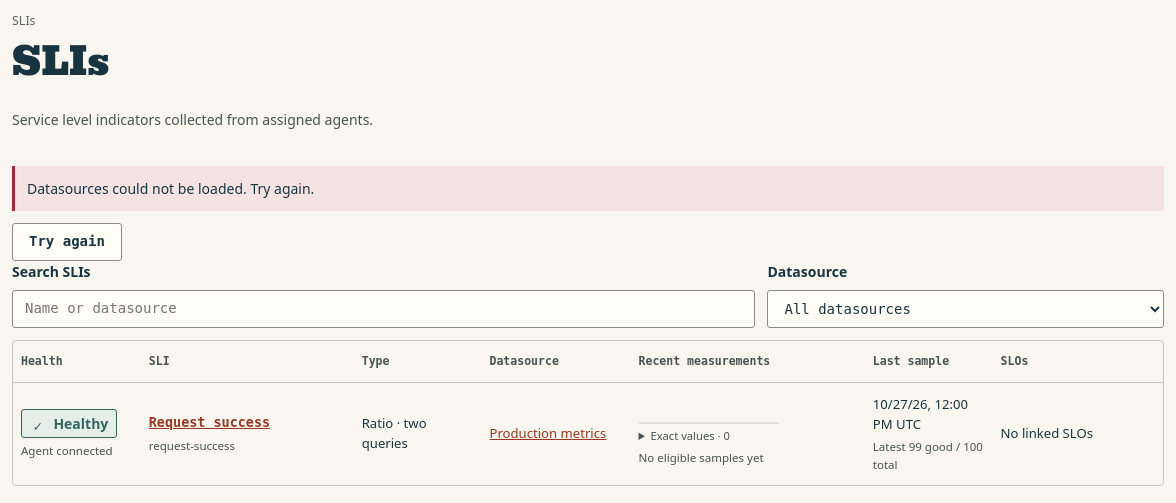
SLI page › recovers a failed datasource read with existing SLIs
Expected: the message shows "Datasources could not be loaded", [27,179,314,198]
Click the button "Try again" at (67, 242), box [12,223,122,261]
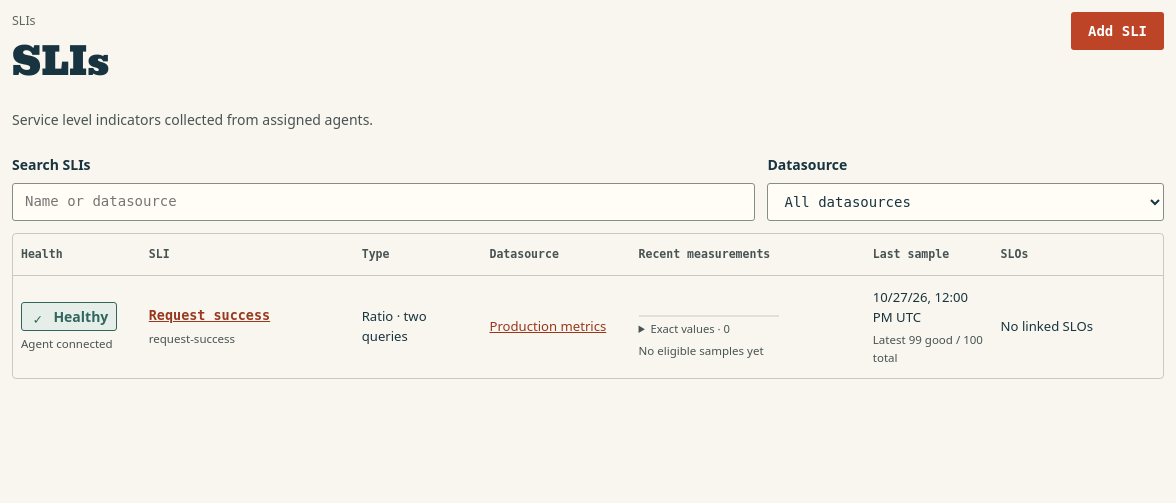
Now the button "Add SLI" is shown, box [1071,12,1164,50]
